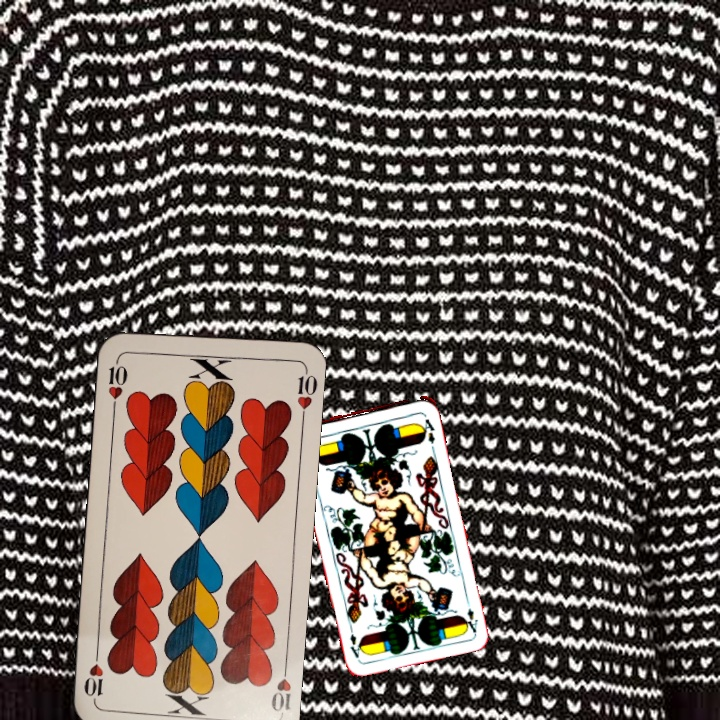EA: (461, 594, 480, 635)
H10: (267, 656, 294, 715), (104, 353, 130, 412)
